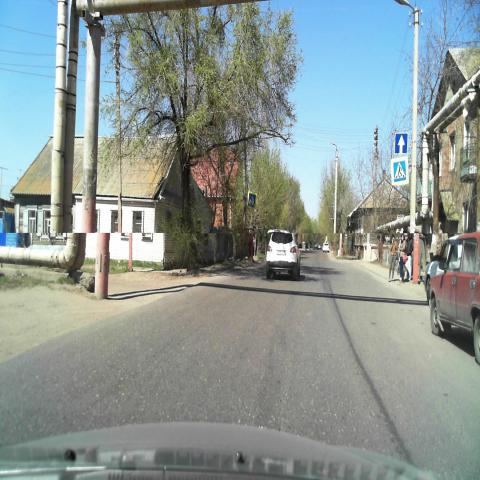5_5: (396, 133, 408, 154)
